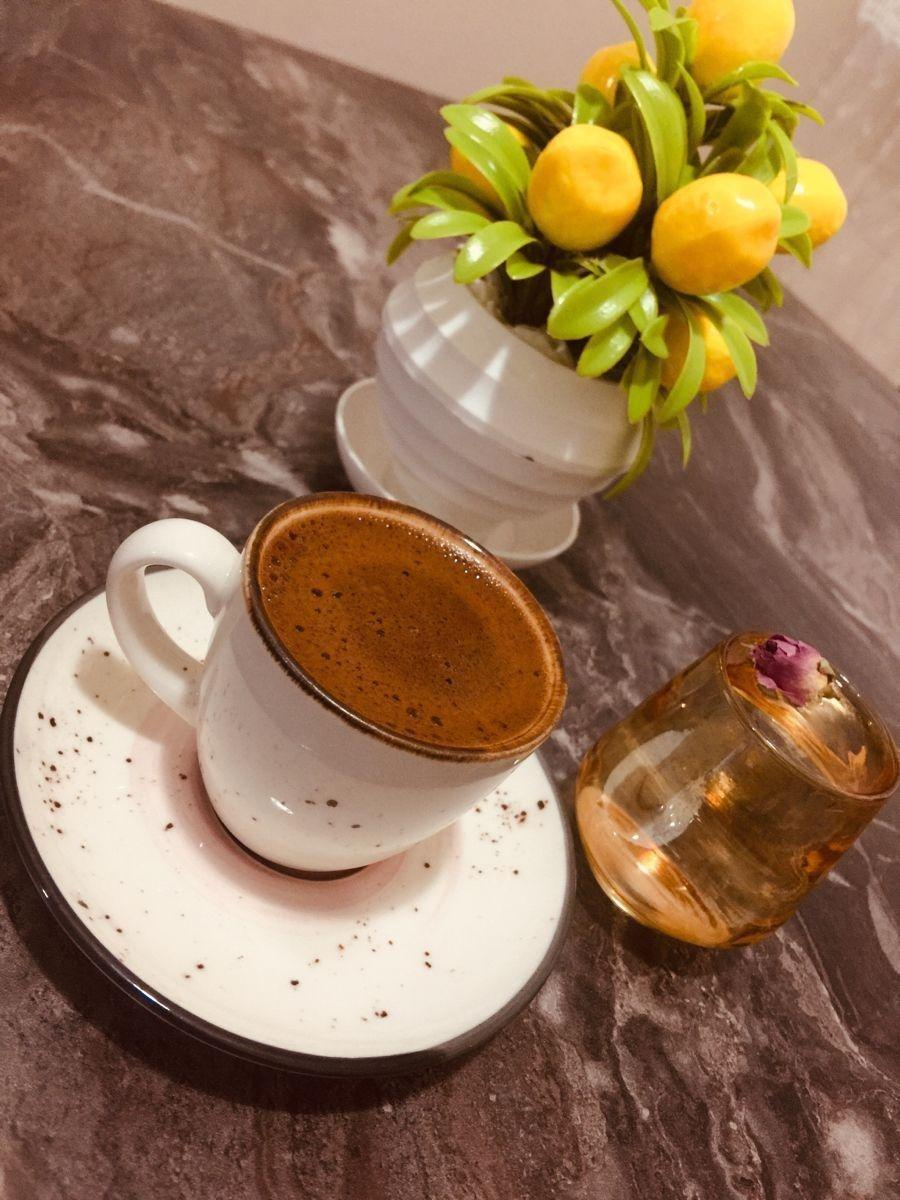cup-handle: (106, 489, 569, 878)
glass-normal: (571, 629, 899, 950)
